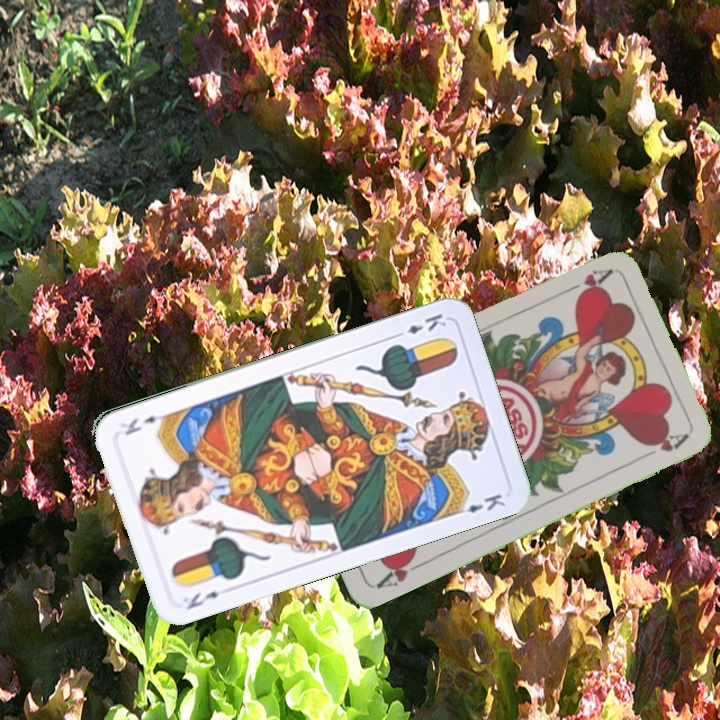EK: (390, 309, 449, 341), (183, 587, 222, 613)
HA: (372, 550, 428, 592), (557, 264, 613, 301)
